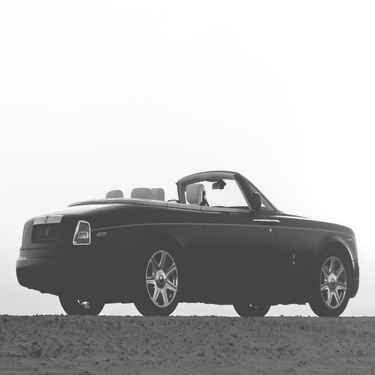car: (11, 168, 369, 322)
